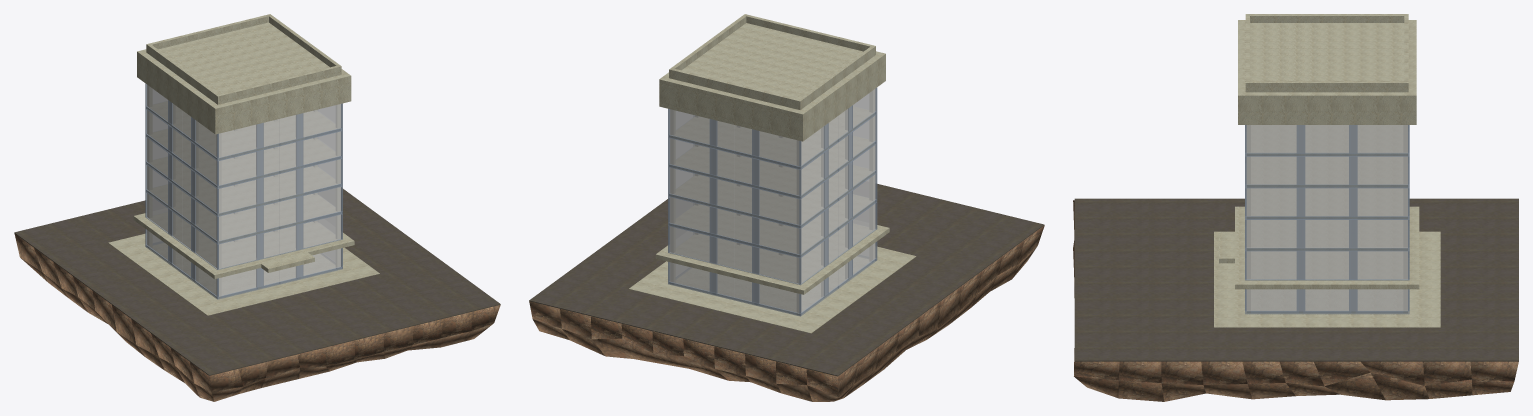
The model's file is blender.glb.
3 renders of one model, left to right at view 1: azimuth 30°, elevation 25°; view 2: azimuth 150°, elevation 25°; view 3: azimuth 270°, elevation 25°, orthographic. The views are drawn at different scales.
Visible parts, largest first — view 1: Parking, Glass, Floors, Ground, Facade Concrete Top, Facade, Pavement, Columns, Facade Concrete Bottom; view 2: Parking, Glass, Floors, Ground, Facade Concrete Top, Facade, Pavement, Columns, Facade Concrete Bottom; view 3: Parking, Floors, Glass, Ground, Facade Concrete Top, Pavement, Facade, Facade Concrete Bottom, Columns.
Part boxes in pixels (x1,y1,x2,y2): Parking: (14, 189, 500, 375); Glass: (146, 84, 340, 296); Floors: (147, 22, 336, 267); Ground: (14, 233, 500, 401); Facade Concrete Top: (137, 14, 351, 134); Facade: (145, 83, 342, 299); Pavement: (108, 234, 379, 315); Columns: (147, 85, 340, 295); Facade Concrete Bottom: (133, 213, 354, 279); Parking: (529, 184, 1044, 376); Glass: (670, 88, 875, 312); Floors: (670, 23, 874, 282); Ground: (529, 225, 1044, 401); Facade Concrete Top: (659, 14, 885, 141); Facade: (668, 87, 877, 316); Pavement: (629, 246, 916, 333); Columns: (670, 89, 874, 312); Facade Concrete Bottom: (655, 225, 889, 294); Parking: (1074, 198, 1518, 361); Floors: (1247, 23, 1407, 279); Glass: (1246, 125, 1407, 310); Ground: (1073, 200, 1518, 401); Facade Concrete Top: (1238, 14, 1416, 124); Pavement: (1214, 231, 1440, 327); Facade: (1245, 125, 1409, 314); Facade Concrete Bottom: (1219, 206, 1419, 289); Columns: (1247, 125, 1407, 310).
Bounding box in the file's own units: 44.08 × 35.51 × 51.17.
6 materials, 4 textured.
